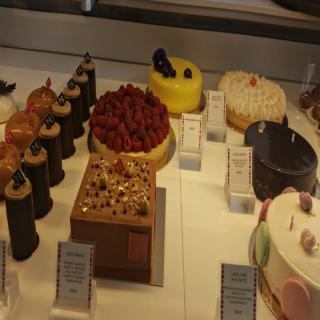Cake: (70, 152, 156, 284), (252, 186, 320, 320), (88, 85, 170, 172), (243, 120, 318, 201), (217, 70, 286, 136), (148, 49, 203, 116)
